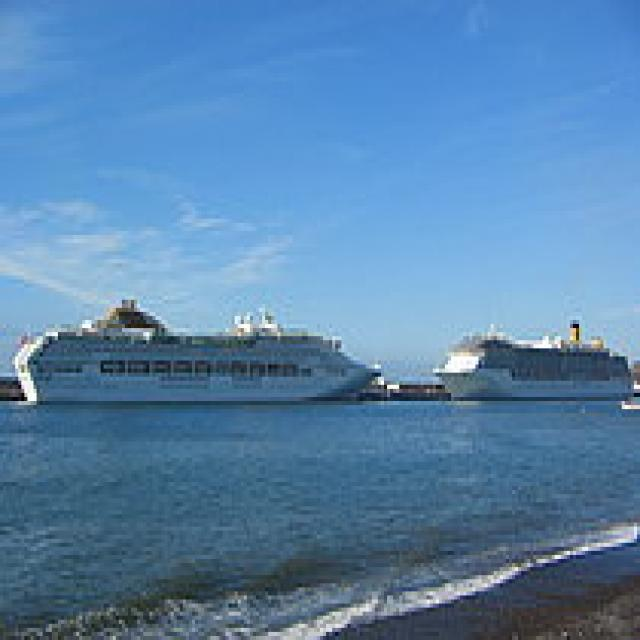Ship: (10, 289, 388, 423), (430, 296, 640, 418)
